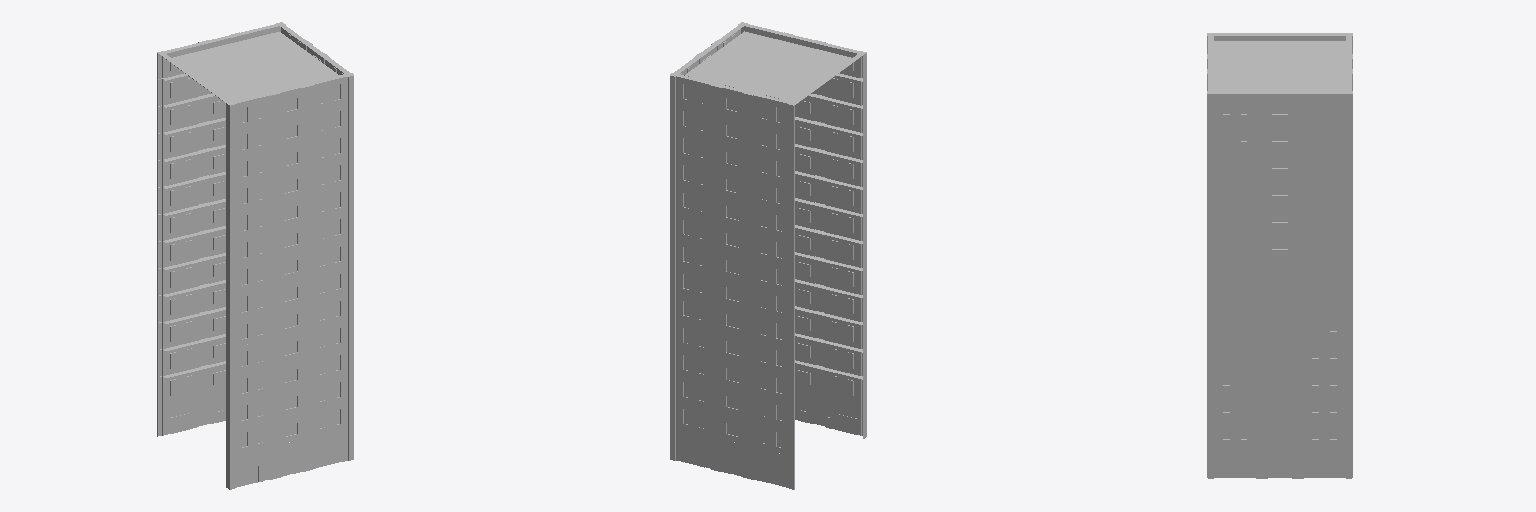
The model's file is TallBuilding1.obj.
3 views of the same model, side by side, from view 1: azimuth 30°, elevation 25°; view 2: azimuth 150°, elevation 25°; view 3: azimuth 270°, elevation 25° (orthographic).
Parts seen in each view (by area): view 1: TallBuilding1; view 2: TallBuilding1; view 3: TallBuilding1.
Boxes of the visible parts, box(x1,y1,x2,y2) form: TallBuilding1: box(157, 22, 353, 489); TallBuilding1: box(670, 22, 866, 489); TallBuilding1: box(1207, 33, 1352, 478).
Size of the model in its own units: 24.19 by 71 by 24.39.